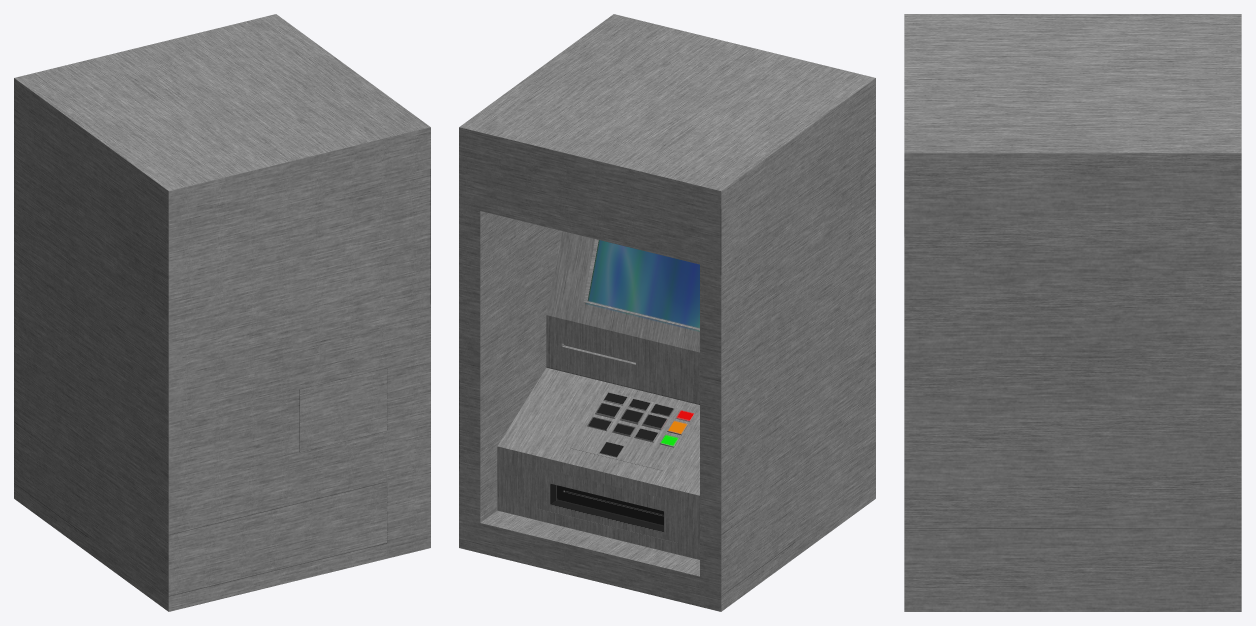
Rendered from atm.obj.
3 views of the same model, side by side, from view 1: azimuth 30°, elevation 25°; view 2: azimuth 150°, elevation 25°; view 3: azimuth 270°, elevation 25° (orthographic). The views are drawn at different scales.
Parts seen in each view (by area): view 1: atm; view 2: atm; view 3: atm.
Boxes of the visible parts, box(x1,y1,x2,y2) form: atm: box(14, 14, 430, 611); atm: box(459, 14, 875, 611); atm: box(904, 14, 1241, 611).
Size of the model in its own units: 0.9873 by 1.51 by 1.01.
Materials: 1 (1 with a texture image).
